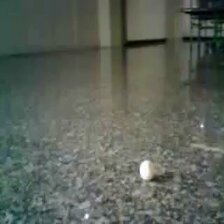w: (139, 159, 155, 180)
